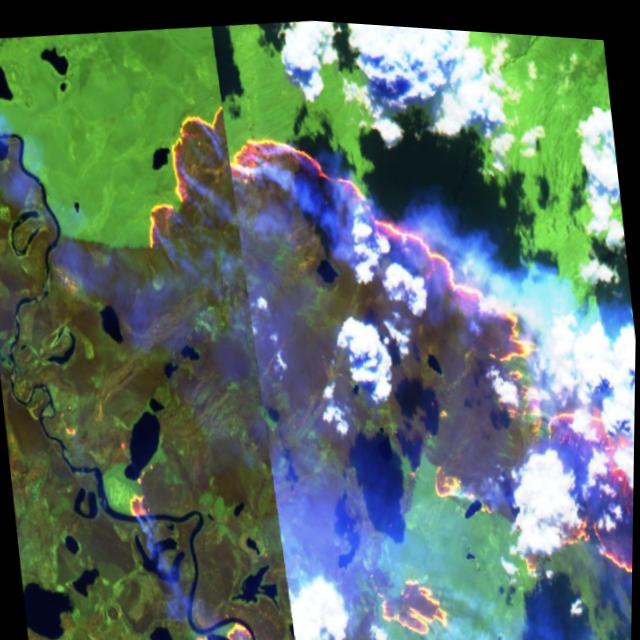fire: (73, 40, 640, 640)
